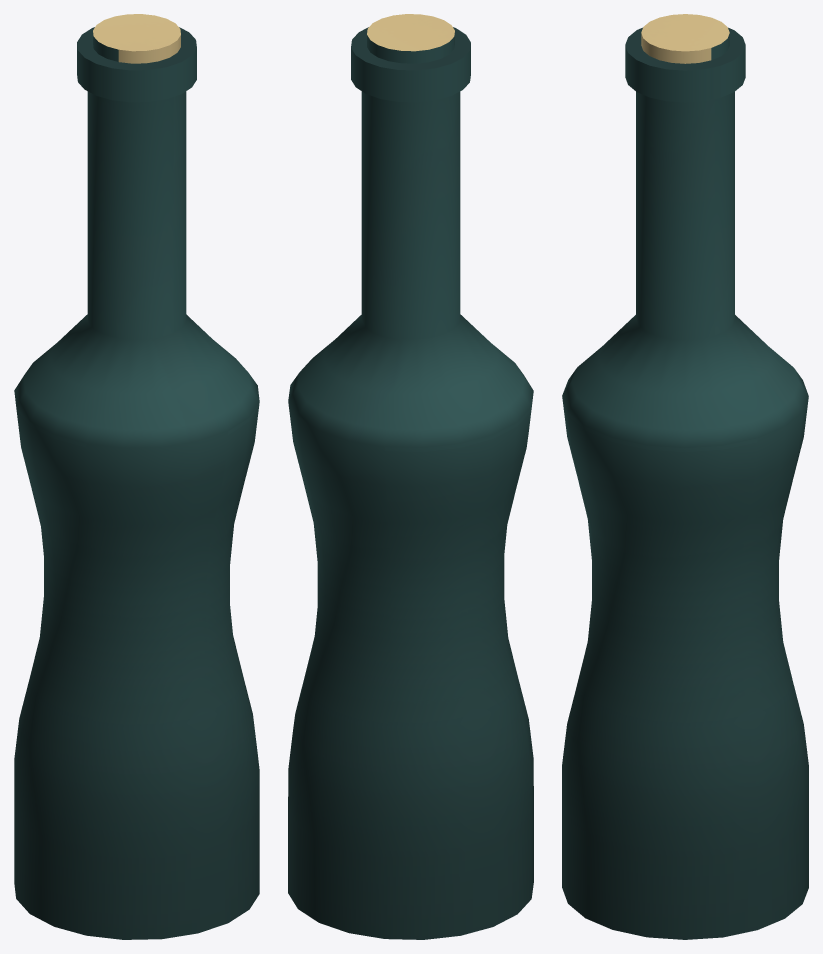
The model's file is bouteille1.fbx.
The picture shows the model from 3 angles, left to right: view 1: azimuth 30°, elevation 25°; view 2: azimuth 150°, elevation 25°; view 3: azimuth 270°, elevation 25°; orthographic projection.
Visible parts, largest first — view 1: bottle; view 2: bottle; view 3: bottle.
Boxes of the visible parts, left/top/right/bottom form: bottle: left=14, top=14, right=259, bottom=939; bottle: left=288, top=14, right=533, bottom=939; bottle: left=562, top=14, right=808, bottom=939.
Size of the model in its own units: 22.52 by 86.07 by 22.52.
